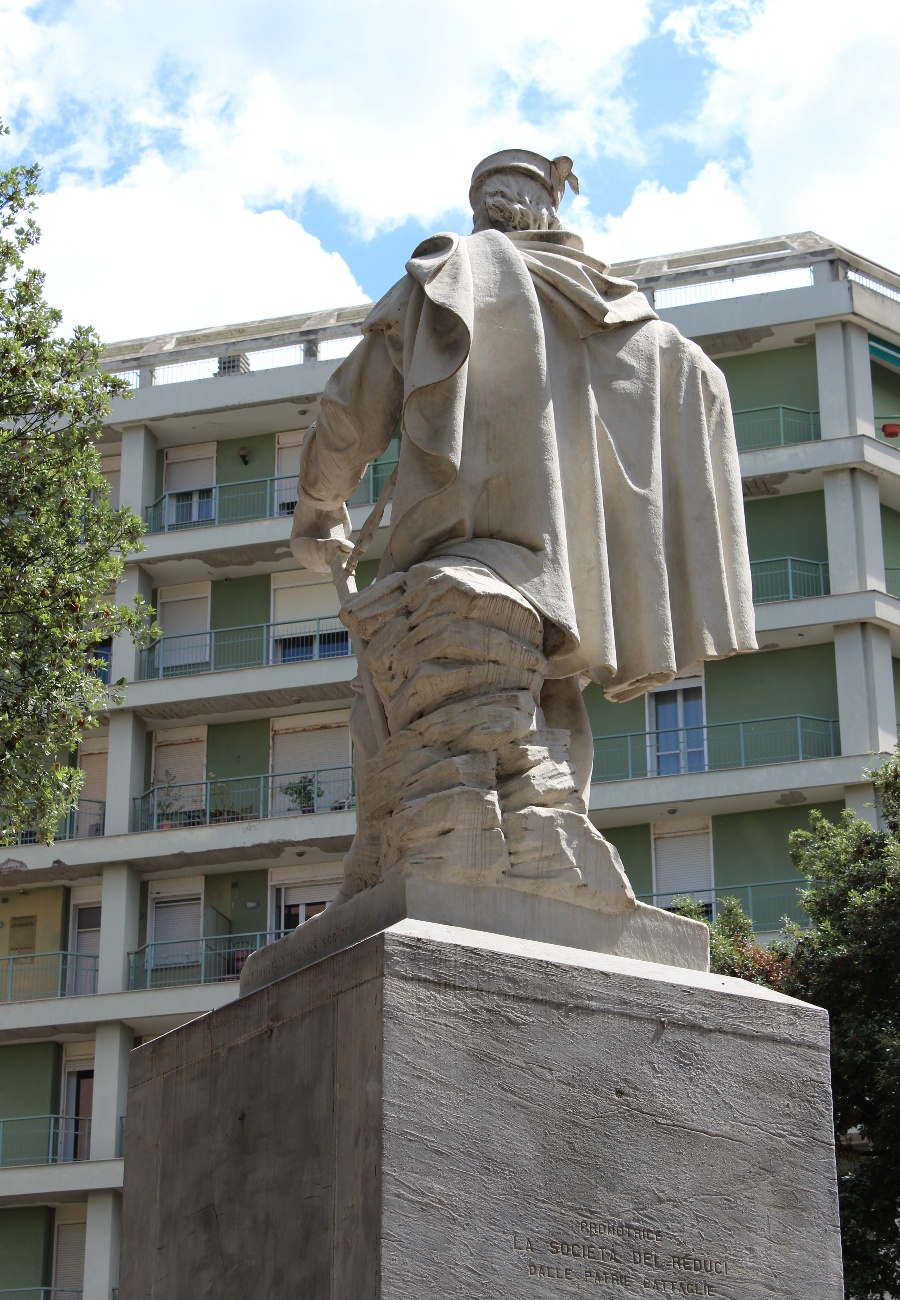Giuseppe Garibaldi: (291, 150, 762, 959)
